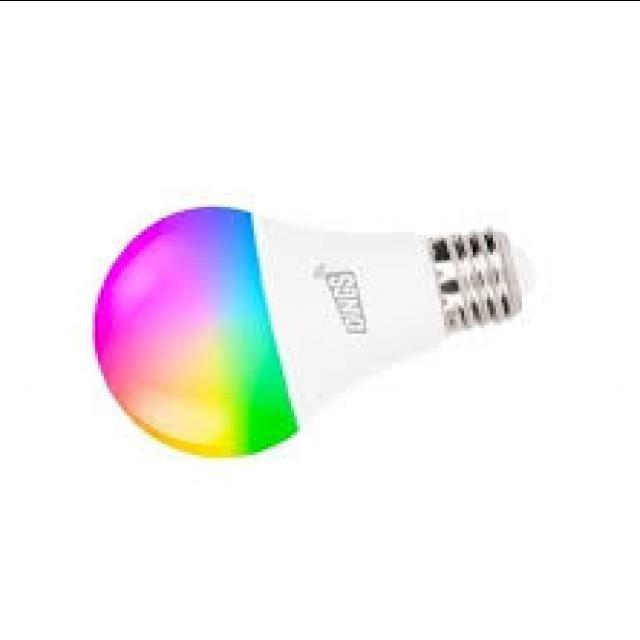light_bulb: (80, 179, 536, 475)
